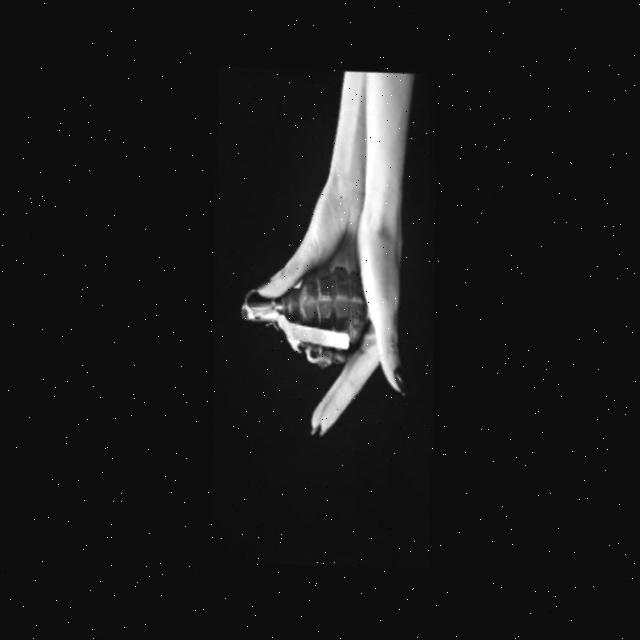grenade: (214, 232, 392, 386)
